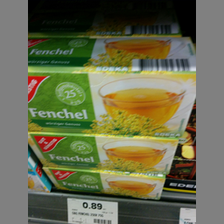tea: (29, 37, 196, 136), (28, 130, 178, 175)
